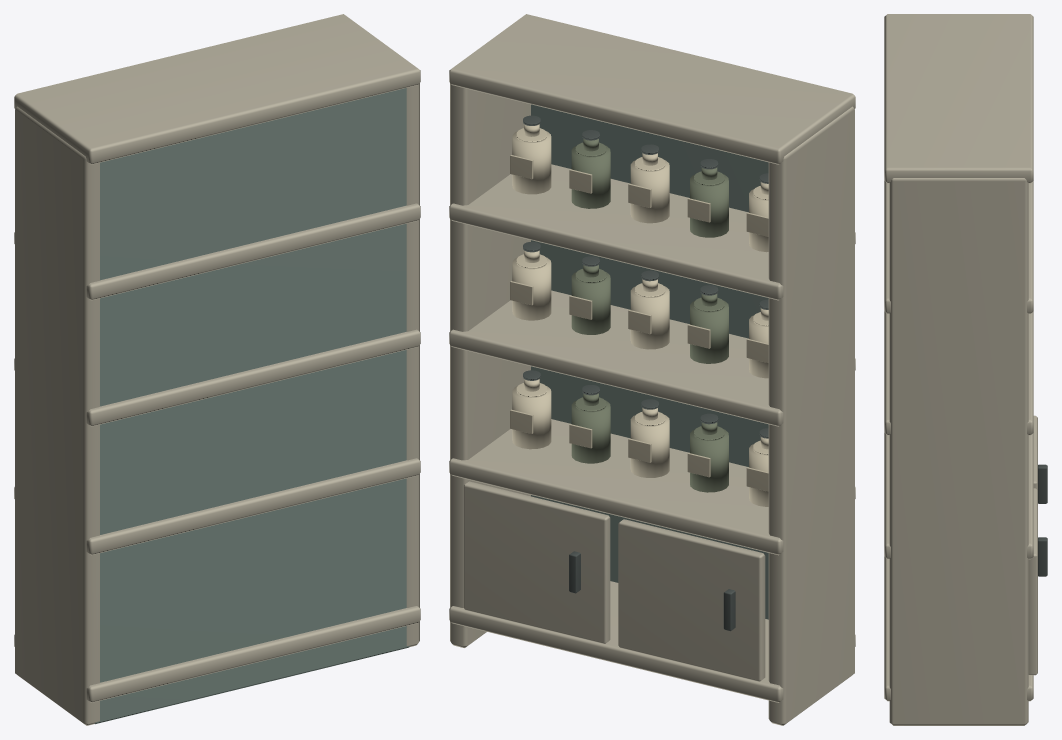
The model's file is MedicineCabinet62.fbx.
The picture shows the model from 3 angles, left to right: view 1: azimuth 30°, elevation 25°; view 2: azimuth 150°, elevation 25°; view 3: azimuth 270°, elevation 25°; orthographic projection. The views are drawn at different scales.
Visible parts, largest first — view 1: MedicineCabinet62; view 2: MedicineCabinet62; view 3: MedicineCabinet62.
Boxes of the visible parts, x1,y1,x2,y2 form: MedicineCabinet62: (14,14,420,725); MedicineCabinet62: (449,14,855,725); MedicineCabinet62: (884,14,1047,725).
Bounding box in the file's own units: 148 × 244 × 64.5.
